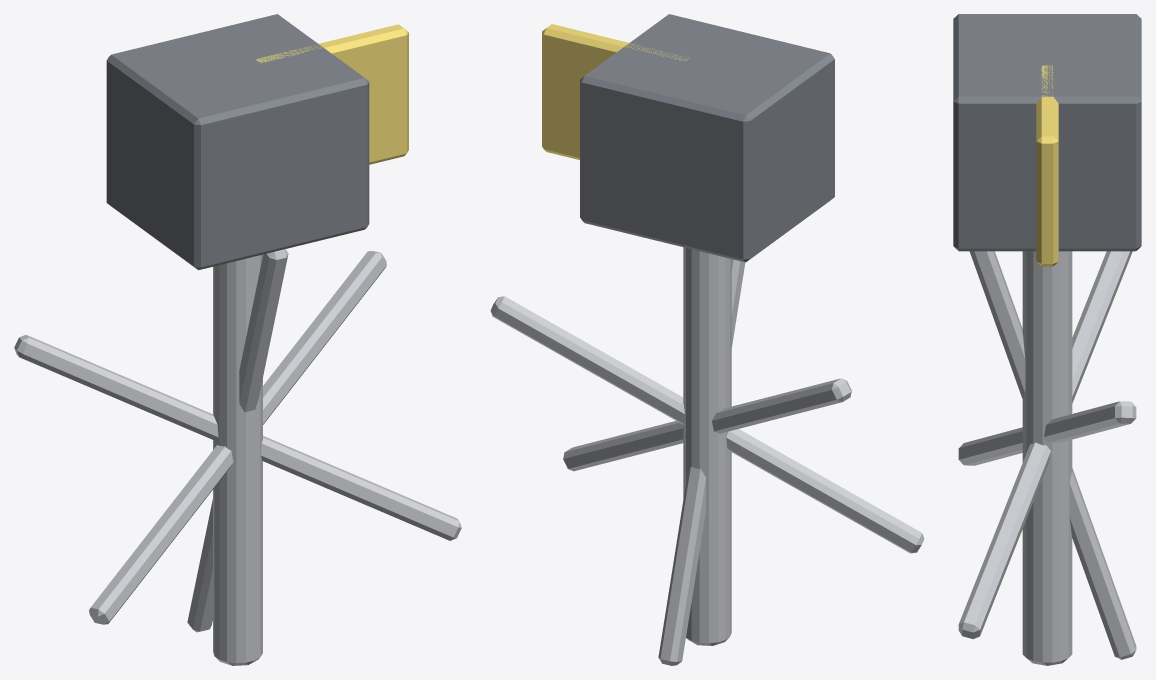
File: 灯具_探照灯_01.fbx
The picture shows the model from 3 angles, left to right: view 1: azimuth 30°, elevation 25°; view 2: azimuth 150°, elevation 25°; view 3: azimuth 270°, elevation 25°; orthographic projection. The views are drawn at different scales.
Visible parts, largest first — view 1: 灯体.001, 支架, 灯面; view 2: 灯体.001, 支架, 灯面; view 3: 灯体.001, 支架, 灯面.
Boxes of the visible parts, x1,y1,x2,y2 form: 灯体.001: (106,14,369,270); 支架: (14,249,461,665); 灯面: (256,24,408,164); 灯体.001: (580,14,834,262); 支架: (490,247,924,665); 灯面: (542,24,688,159); 灯体.001: (953,14,1141,251); 支架: (958,251,1136,665); 灯面: (1036,65,1058,266).
Bounding box in the file's own units: 96.71 × 148 × 42.
